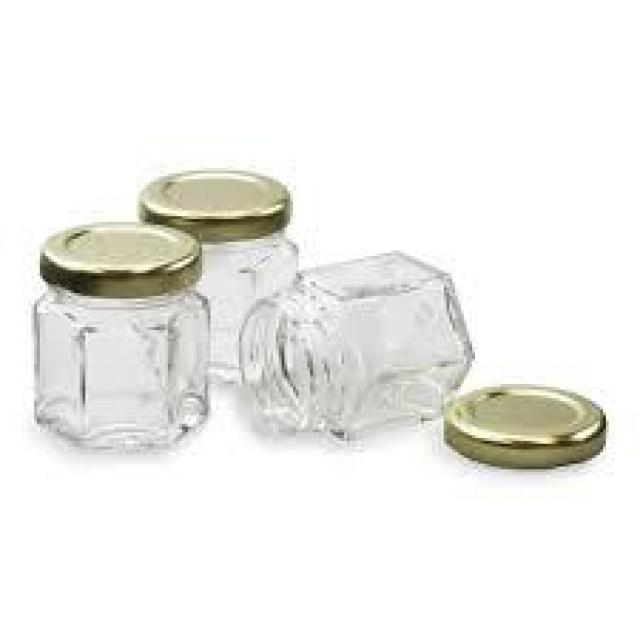non-organic waste: (233, 252, 478, 442), (27, 220, 215, 462)
